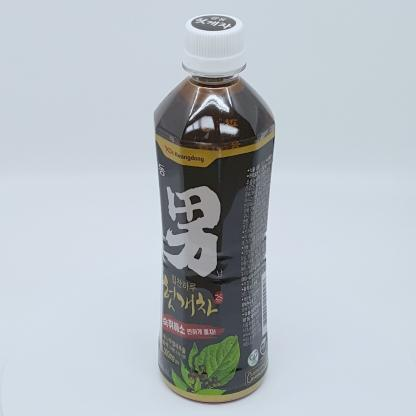---------500ML: (153, 14, 275, 404)
